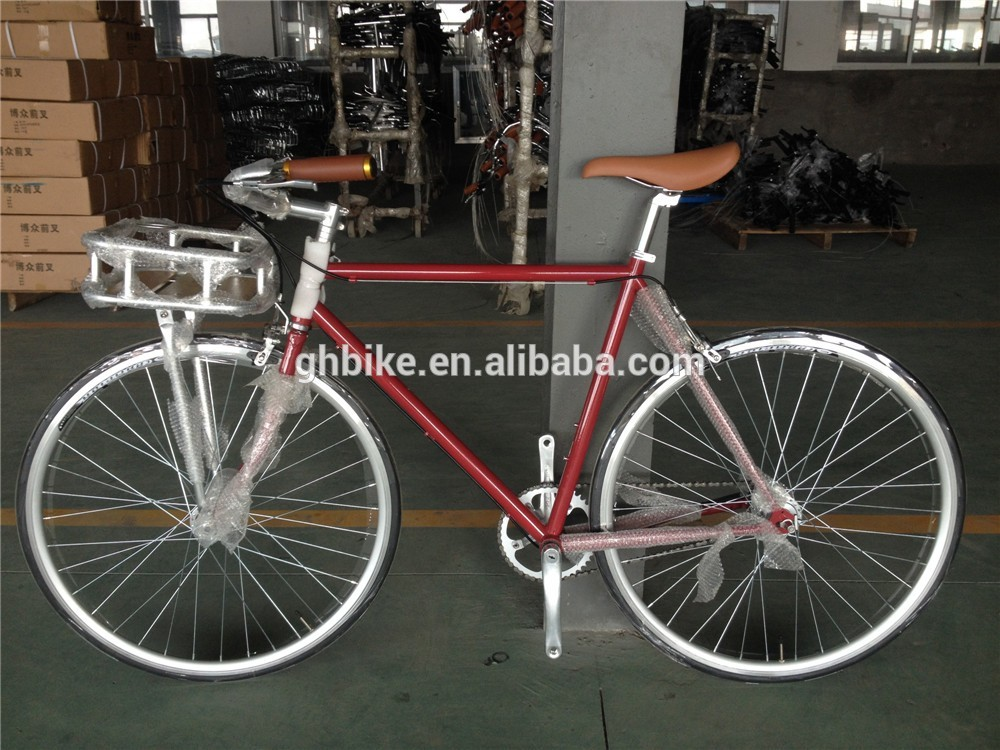bicycle: (21, 150, 974, 692)
package: (1, 54, 145, 110), (1, 243, 123, 304), (1, 165, 133, 216), (4, 94, 131, 143), (1, 22, 143, 63), (1, 202, 118, 247), (1, 136, 119, 176), (1, 1, 118, 31)
